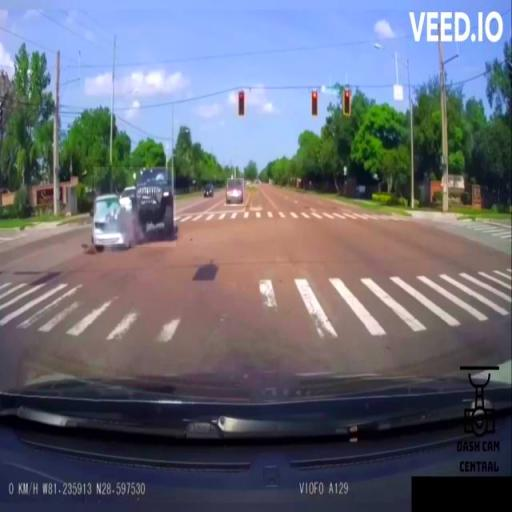小汽车: (227, 178, 244, 206)
小汽车撞小汽车: (94, 167, 176, 247)
